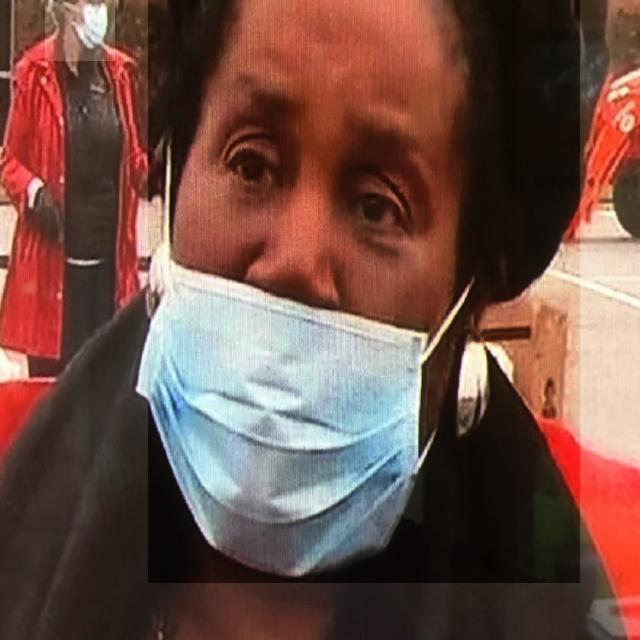hairnet: (148, 228, 469, 583)
mask: (45, 0, 115, 61)
no_gloves: (153, 2, 576, 139)
